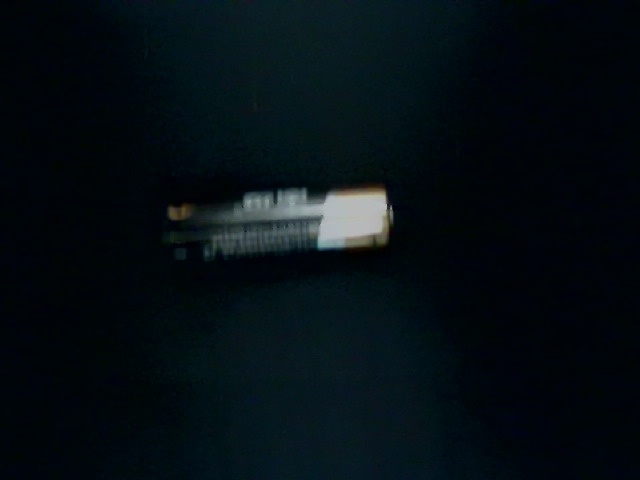QTLJ: (77, 336, 270, 480)
